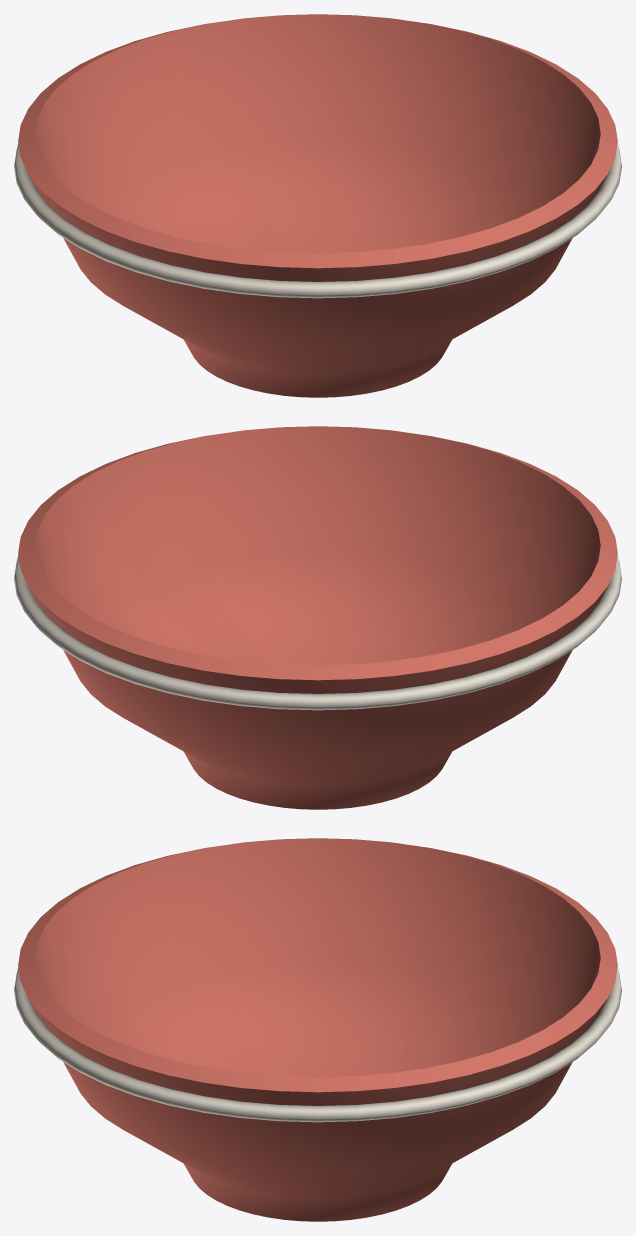
The model's file is kit_dish.glb.
3 views of the same model, one above another, from view 1: azimuth 30°, elevation 25°; view 2: azimuth 150°, elevation 25°; view 3: azimuth 270°, elevation 25° (orthographic).
Visible parts, largest first — view 1: PART; view 2: PART; view 3: PART.
Boxes of the visible parts, box(x1,y1,x2,y2) form: PART: box(14, 14, 621, 397); PART: box(14, 426, 621, 809); PART: box(14, 838, 621, 1221).
Size of the model in its own units: 0.1419 by 0.054 by 0.1419.
